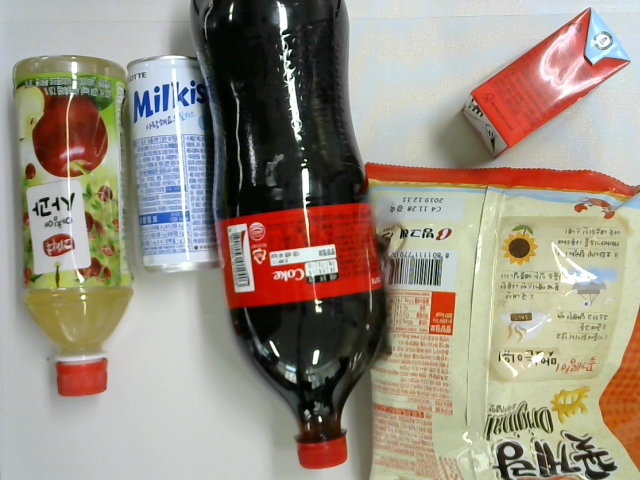Coca_Cola_1.5L: (191, 1, 388, 468)
Crabrang: (364, 161, 639, 480)
Milkies_250ml: (127, 54, 222, 272)
Morning_Apple_500ml: (11, 55, 136, 399)
Picnic_Apple: (461, 6, 631, 158)
